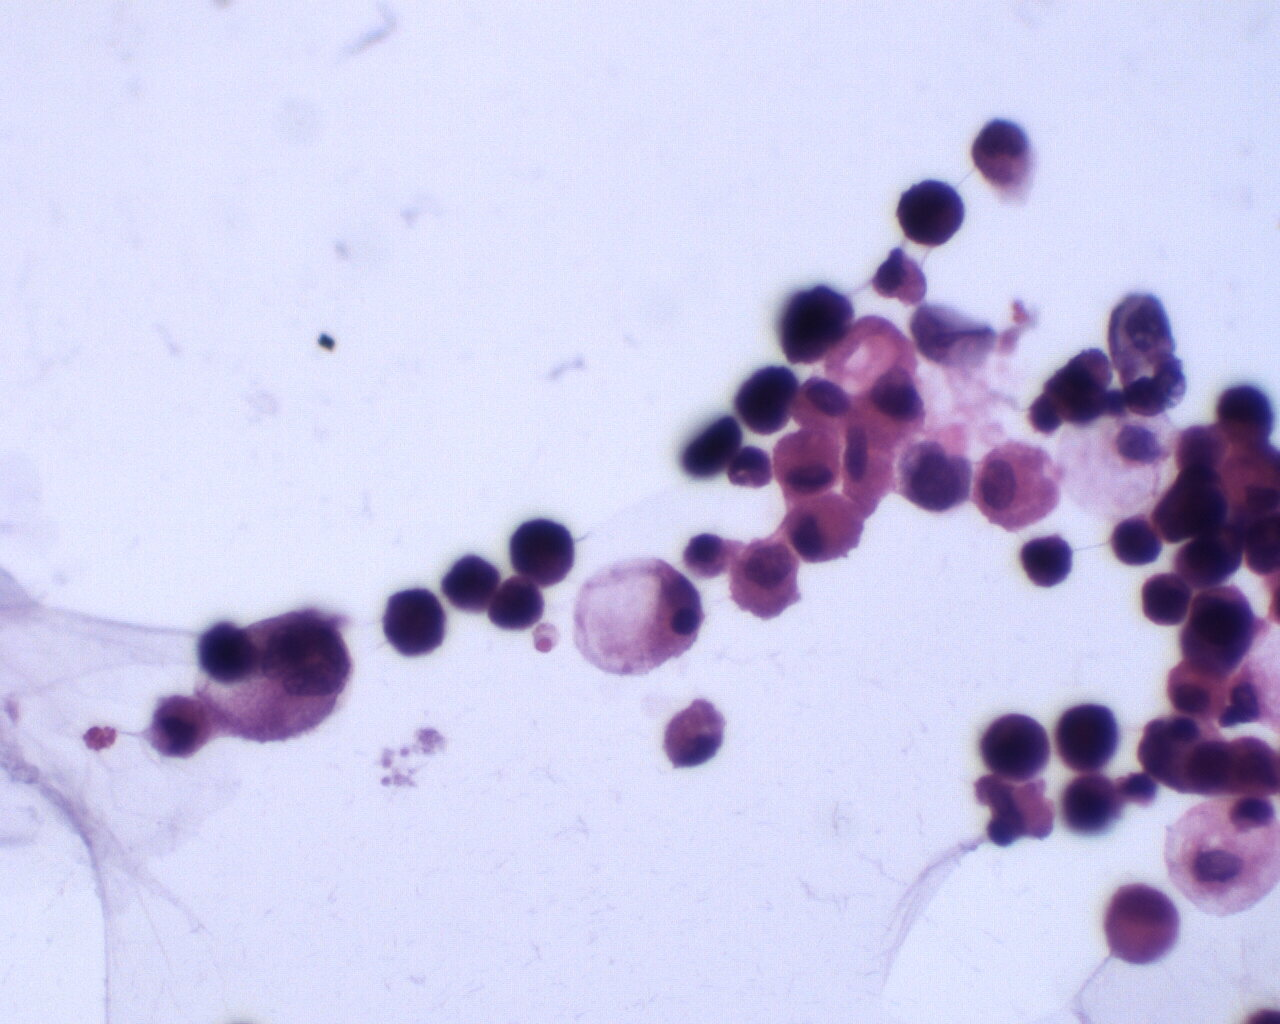ab: (975, 708, 1055, 779), (505, 517, 580, 591), (378, 585, 450, 658), (1051, 698, 1121, 770), (897, 178, 967, 247), (1015, 529, 1077, 596), (1136, 567, 1197, 632), (1106, 503, 1166, 566), (443, 552, 497, 615)
histo: (574, 549, 704, 682)
meso: (970, 433, 1065, 533), (787, 488, 866, 568), (770, 428, 845, 498)
